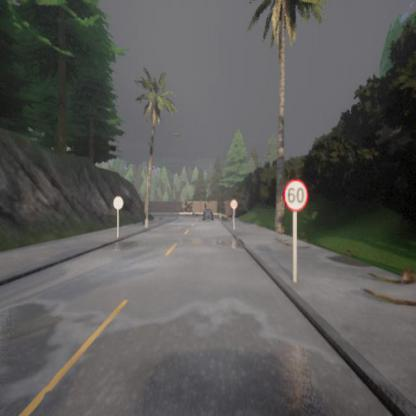traffic_sign_60: (283, 180, 307, 210)
